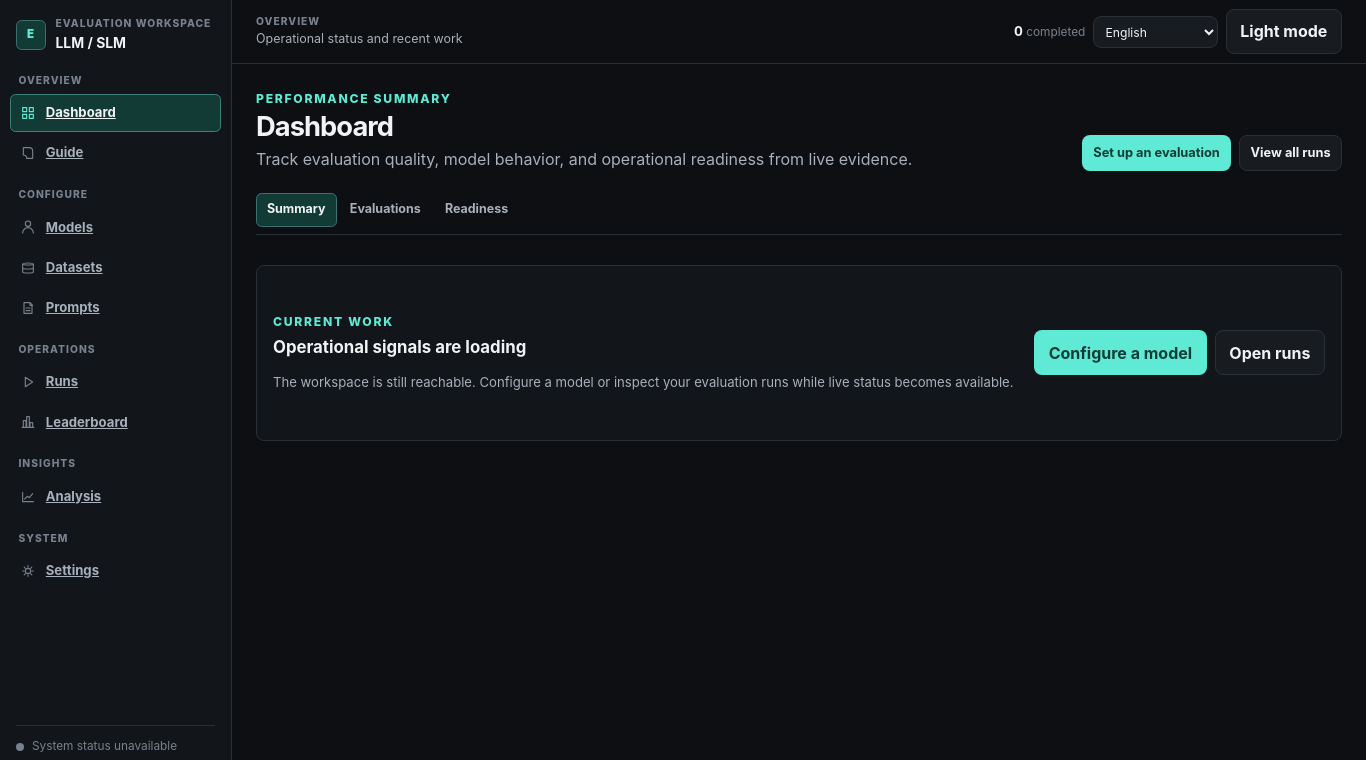
Scenario: review run switching › clears the previous run's samples while the next run's attempts load
Click the link "Runs".
click(49, 382)  # box [20,373,78,390]
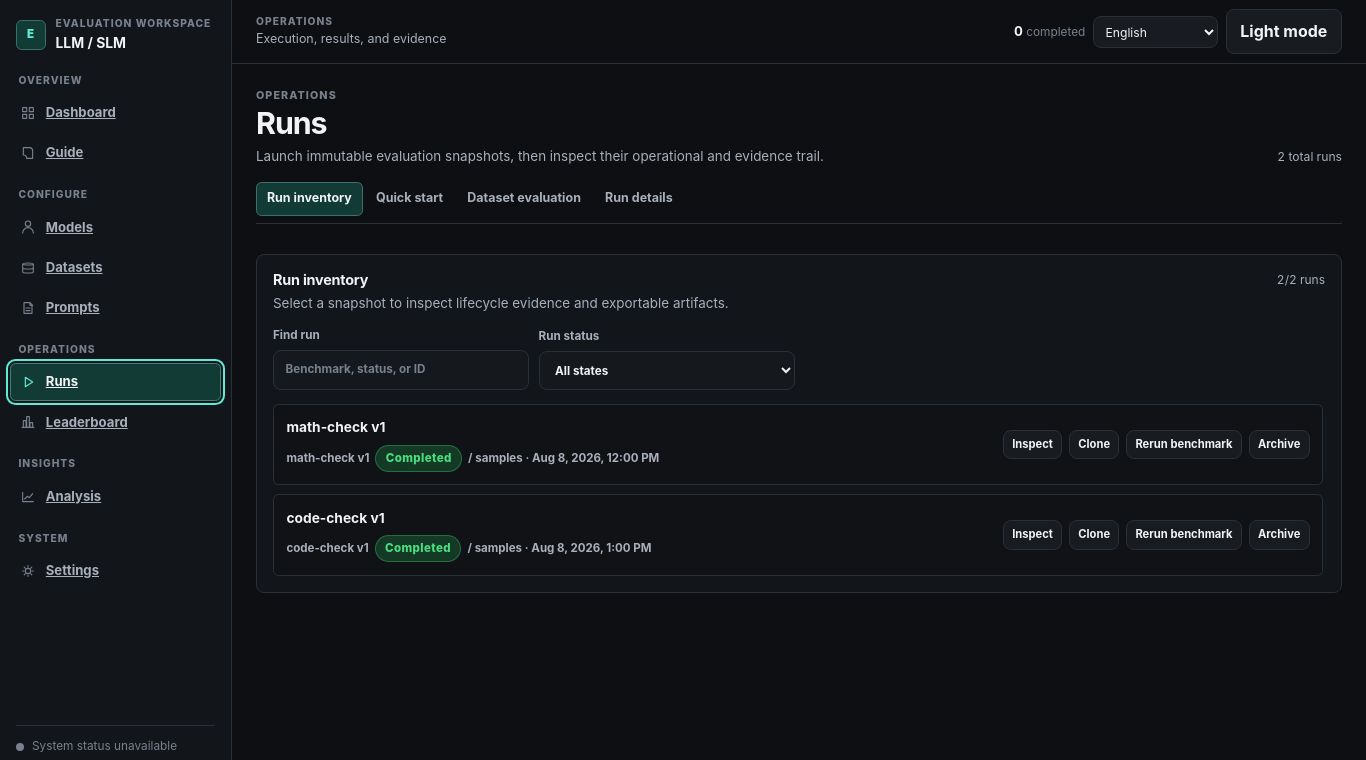
Click the button "math-check v1".
click(336, 427)  # box [286,417,992,472]
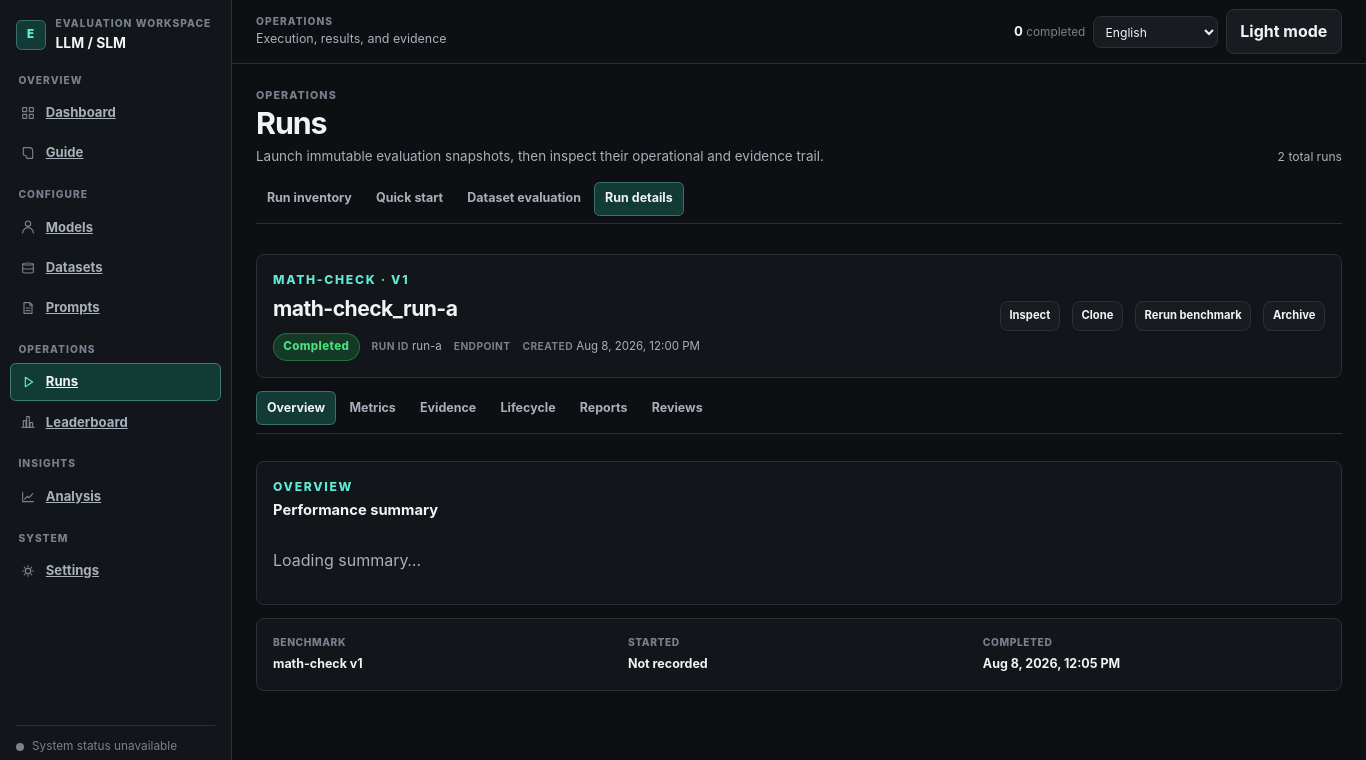
Click the tab "Evidence".
click(448, 408)  # box [409,391,487,426]
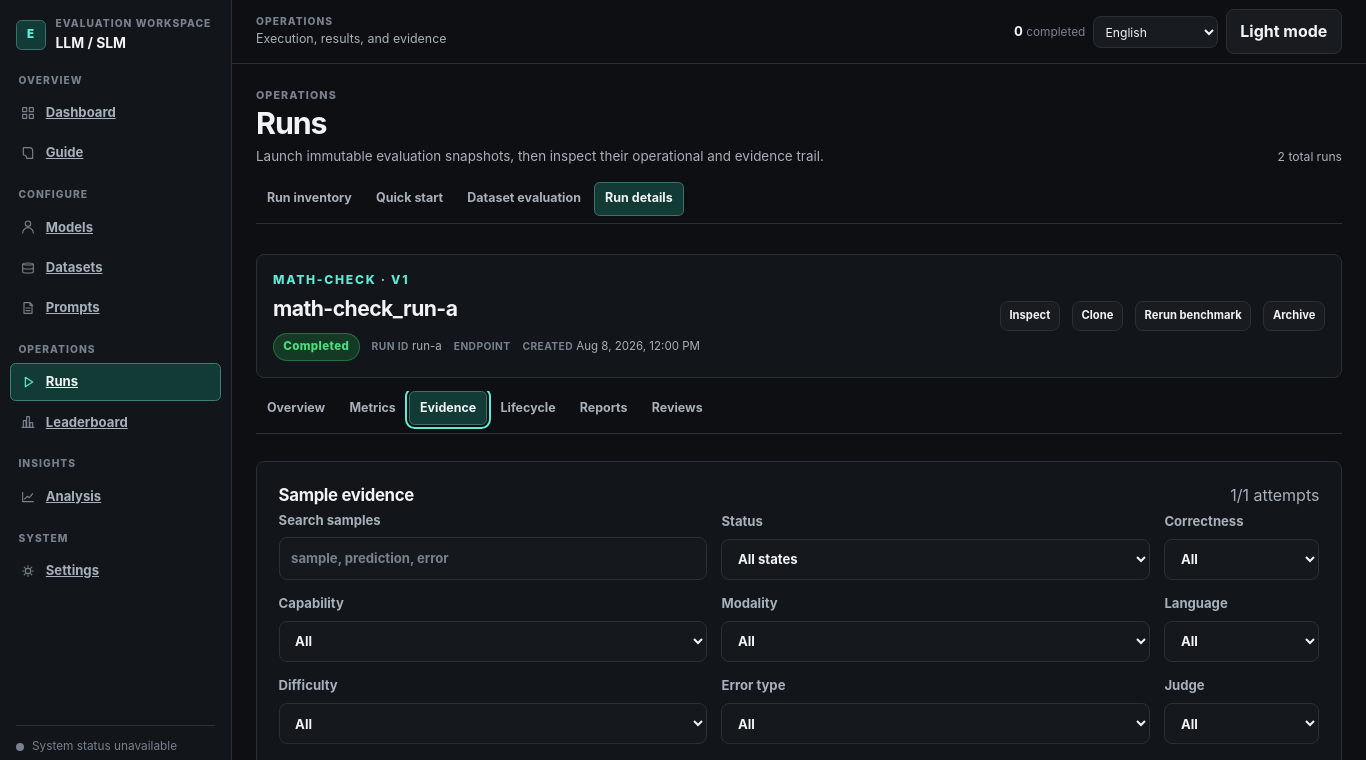
Click the tab "Run inventory".
click(309, 199)  # box [256,182,363,216]
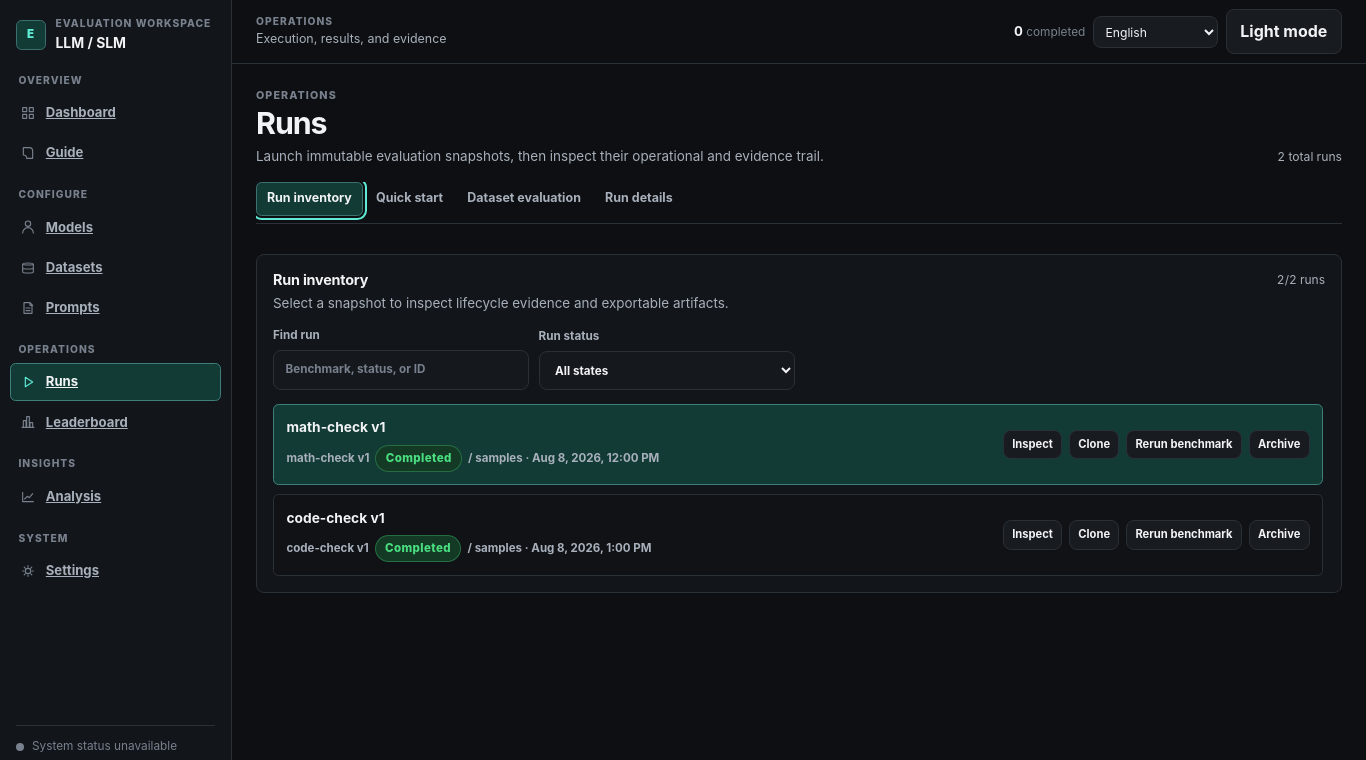
Click the button "code-check v1".
click(336, 518)  # box [286,508,992,562]
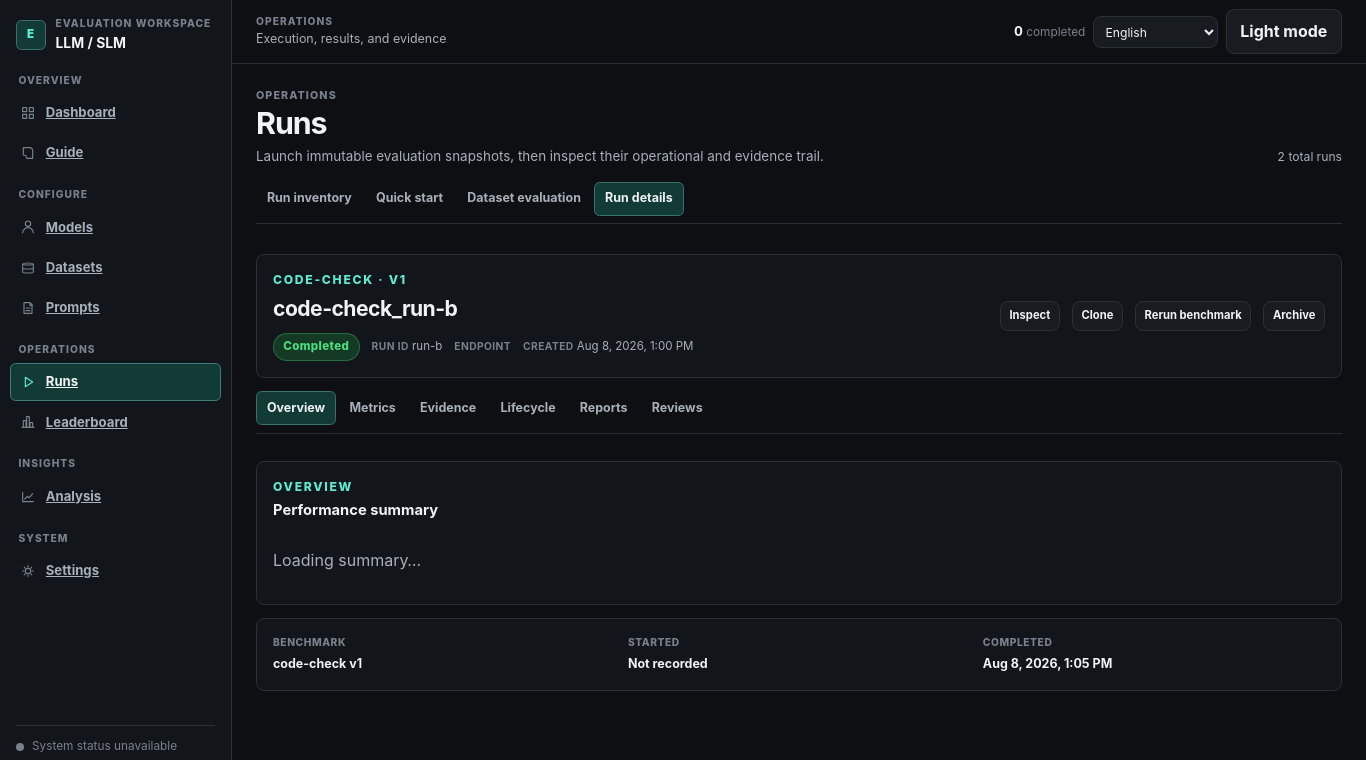
Click the tab "Evidence".
click(448, 408)  # box [409,391,487,426]
(page scrolled)
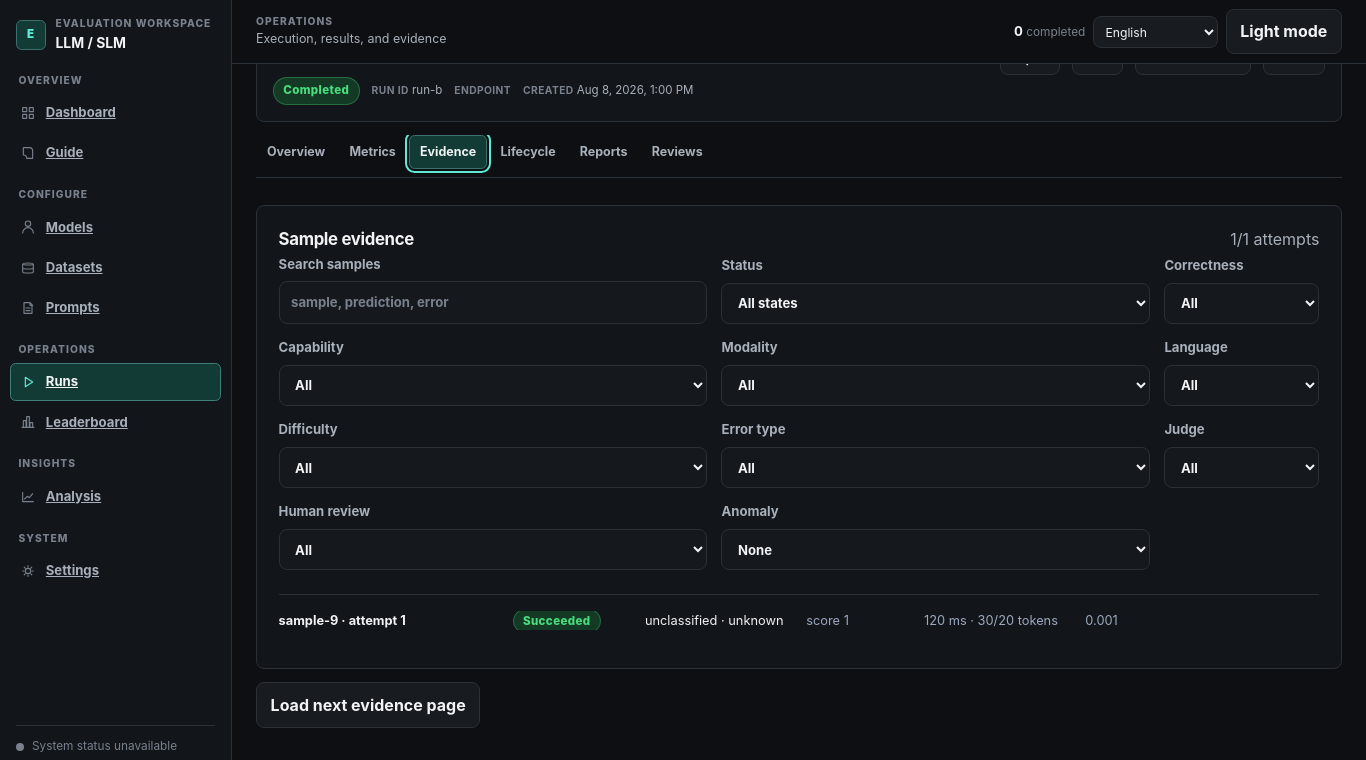
expect the text "sample-9 · attempt 1" is shown: met, box [279,613,406,628]
